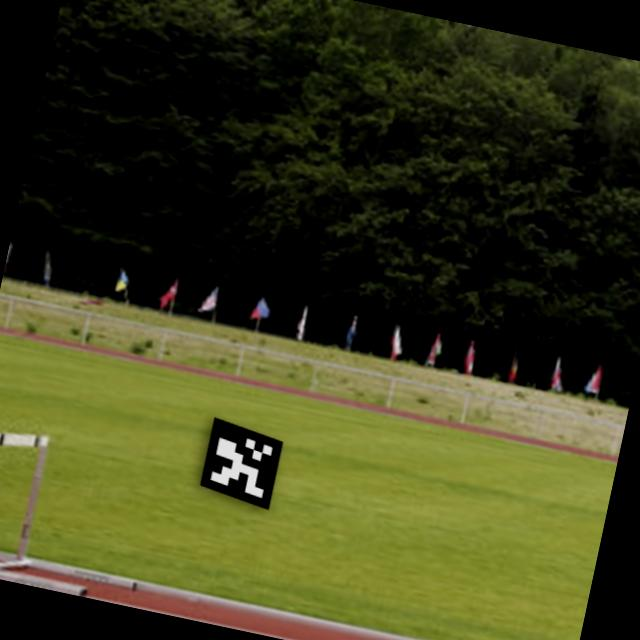marker: (183, 406, 294, 516)
